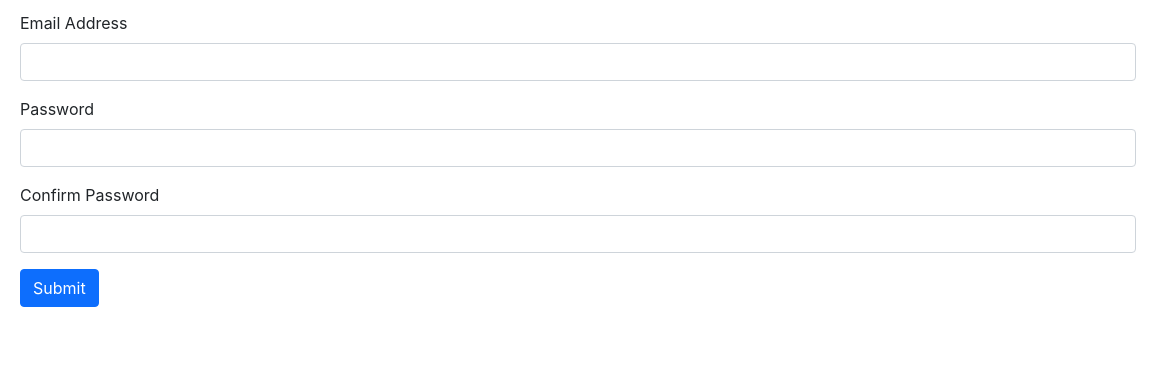
Test: should show password error message on too short of password
In the field: (578, 62) [20,43,1136,81], type "test@gmail.com"
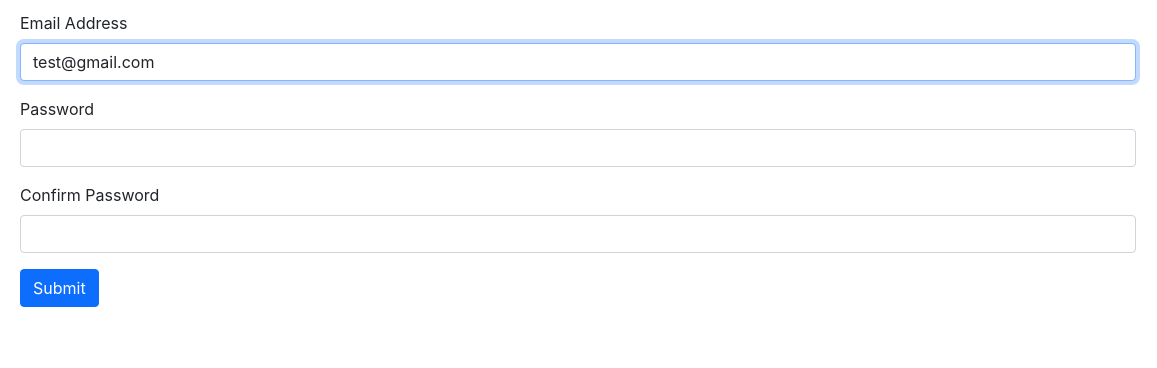
In the password field labelled "Password": (578, 148) [20,129,1136,167], type "stro"
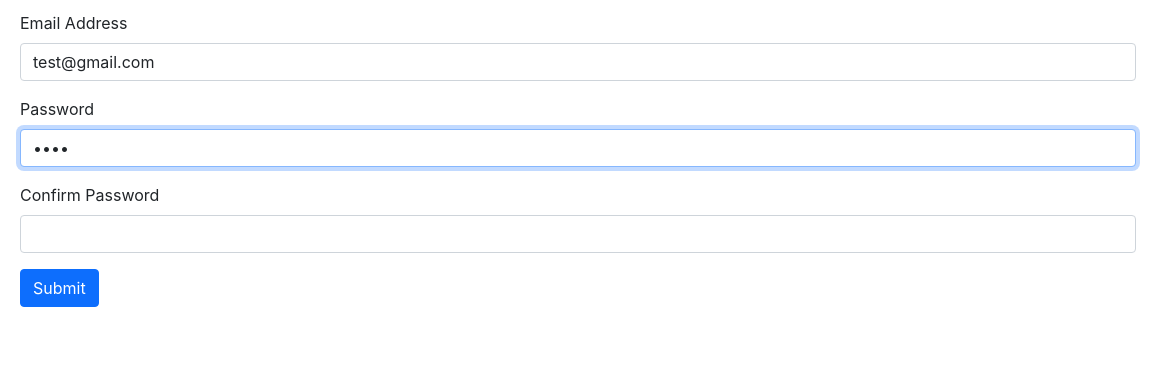
Click the button: (59, 288) [20,269,99,307]
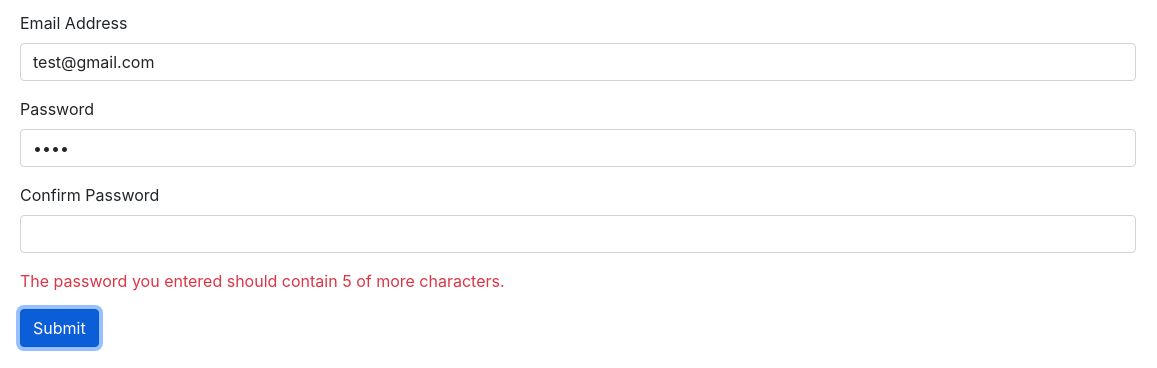
Result: the text "The password you entered should contain 5 of more characters." is shown at [20,271,505,291]
